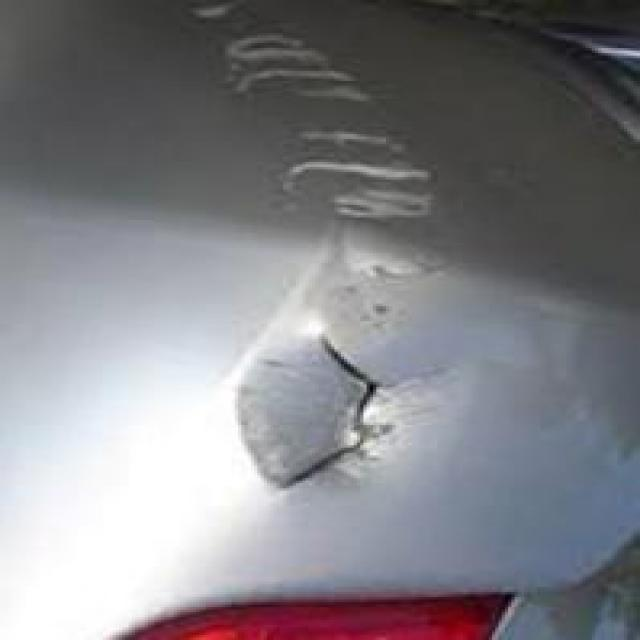scratch: (170, 19, 502, 257)
